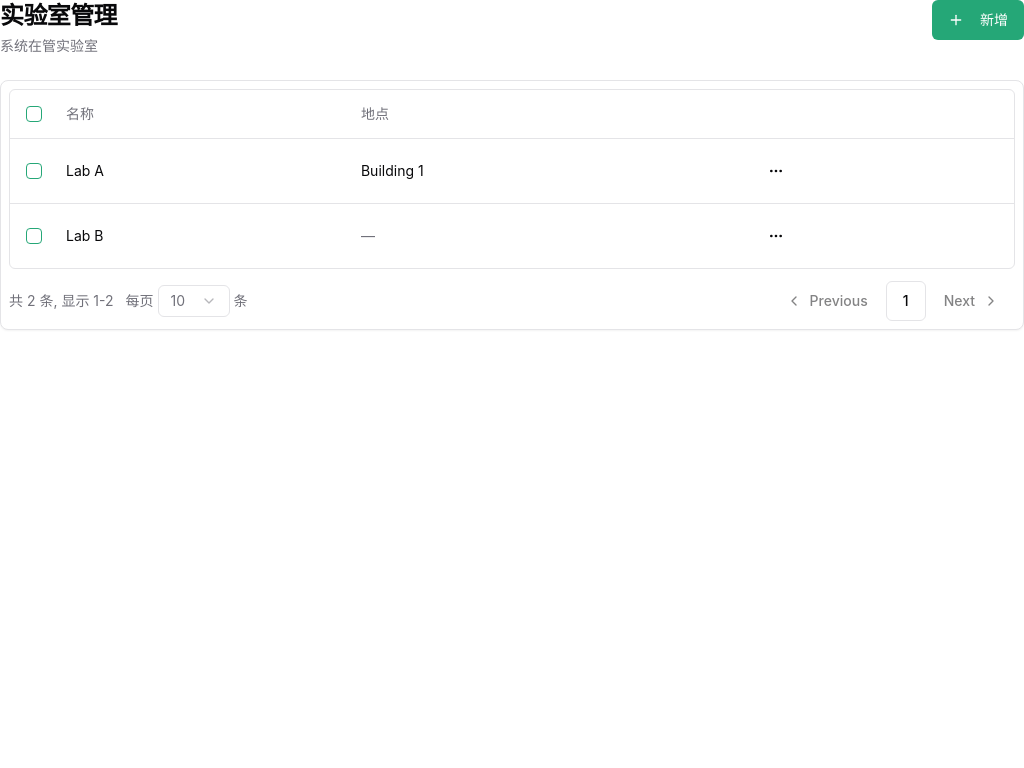
/admin/labs page › 新增 lab → POST /labs + body 含 name/building + dialog 关闭
Expected: the text "Lab A" is shown, [50,138,345,203]
Click the button with test id "labs-create-btn" at (978,20), box [932,0,1023,40]
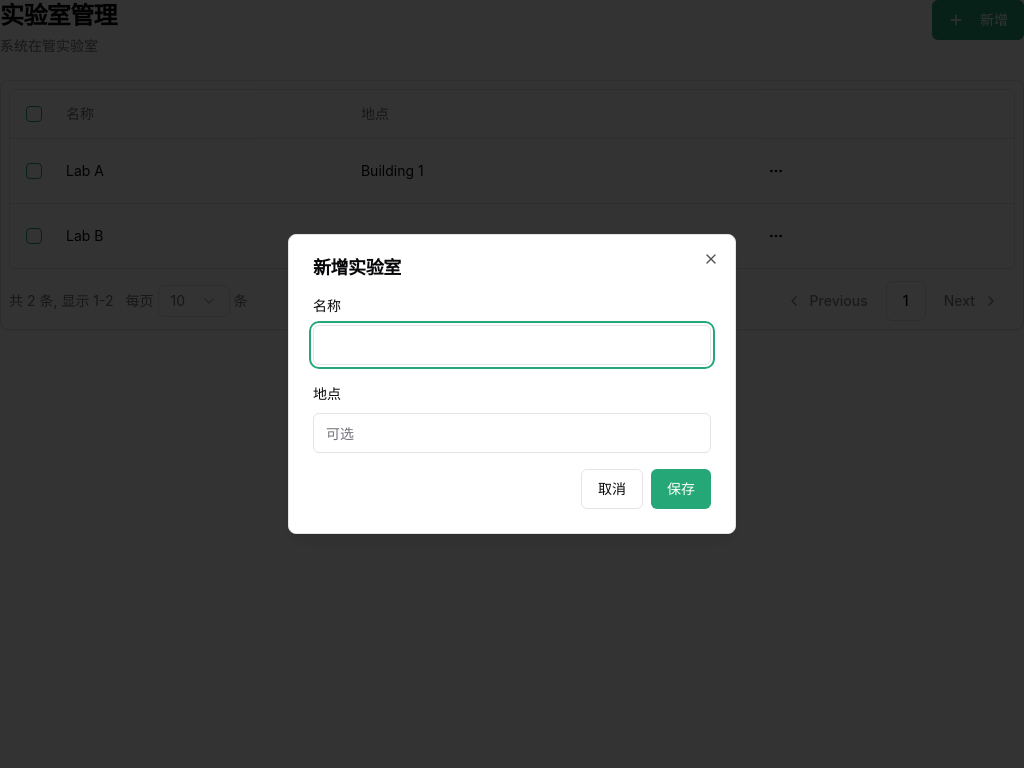
Type "Lab C" into the field with test id "labs-create-name" at (512,345), box [313,325,711,365]
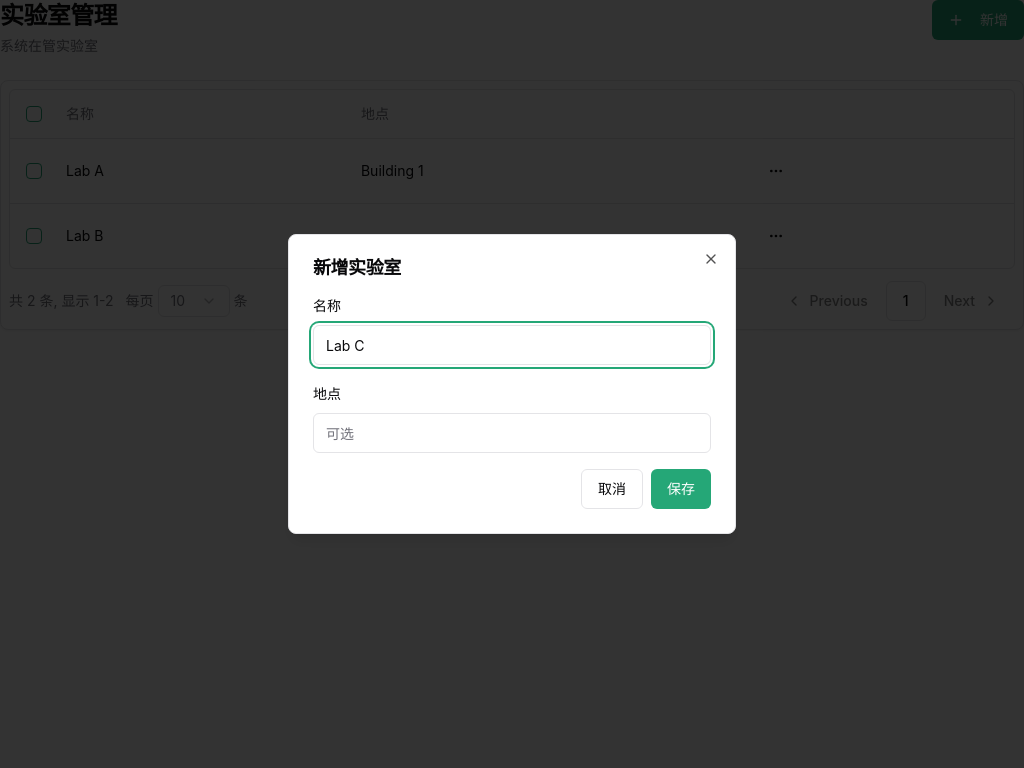
Type "Building 3" into the field with test id "labs-create-building" at (512,433), box [313,413,711,453]
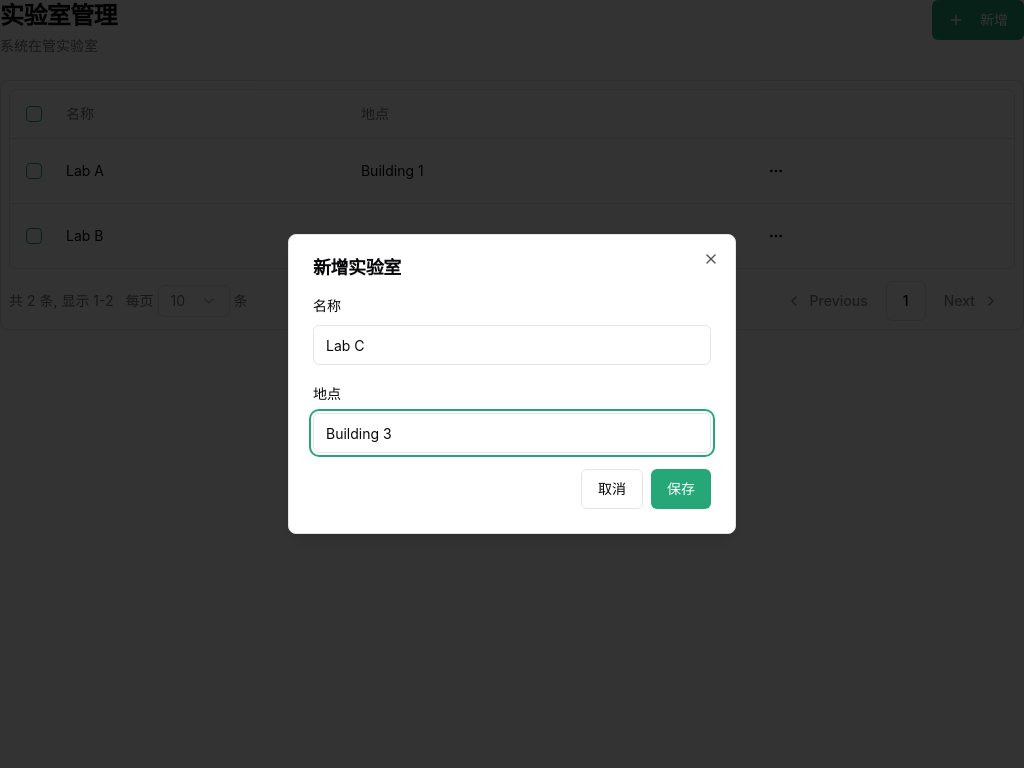
Click the button with test id "labs-create-submit" at (681,489), box [651,469,711,509]
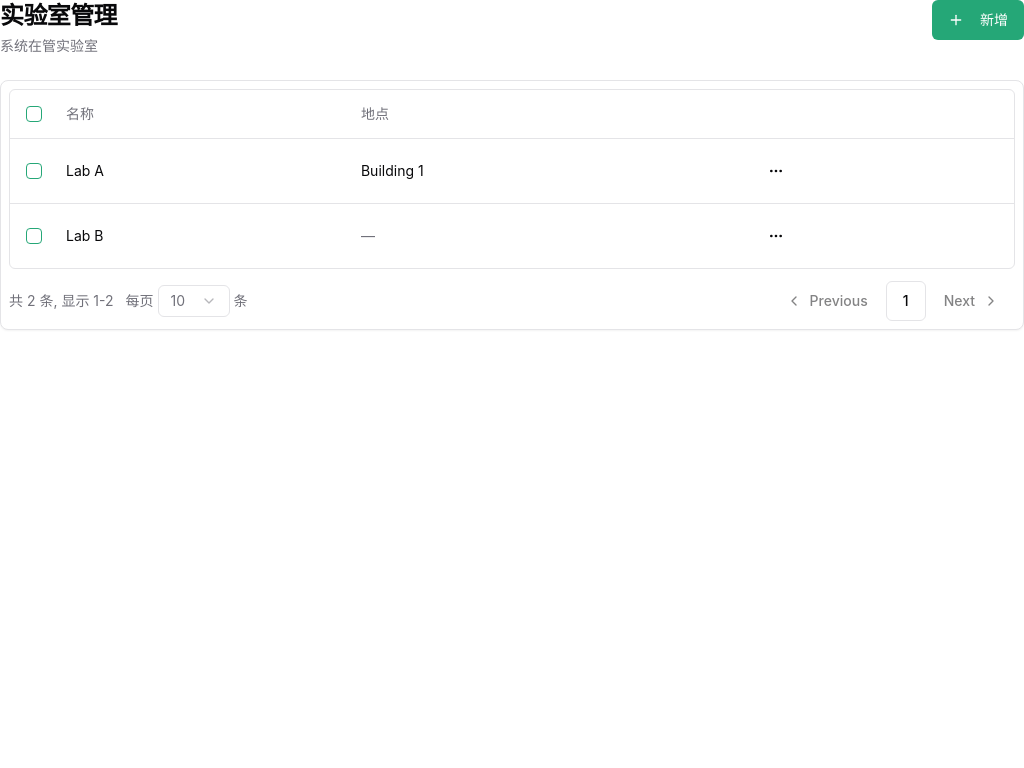
Expected: the field with test id "labs-create-name" is gone
